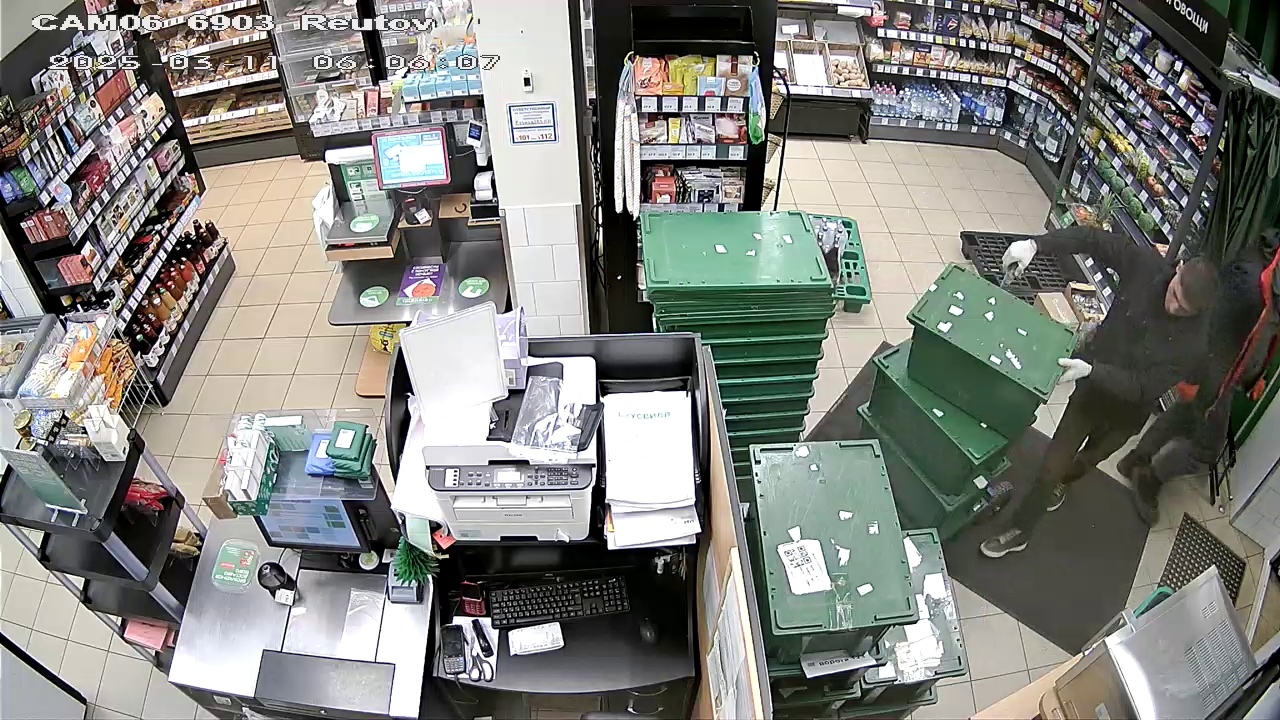Human: (988, 206, 1207, 573), (1122, 211, 1275, 516)
pallet: (956, 221, 1094, 340)
